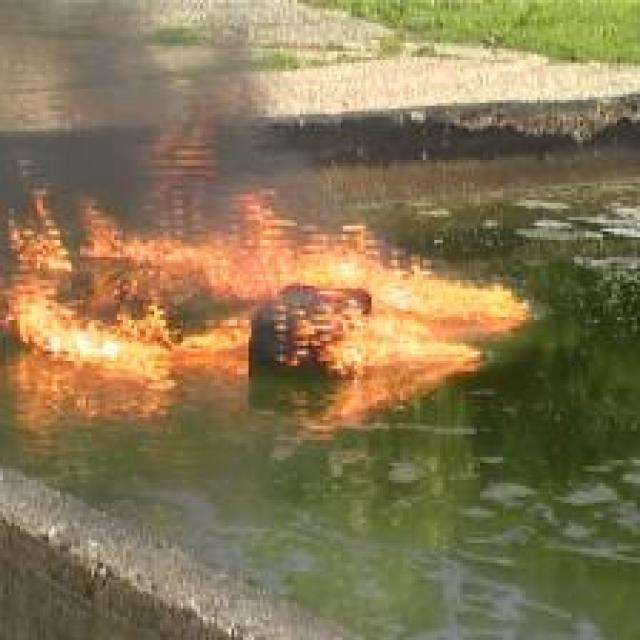Fire: (86, 192, 532, 328), (0, 281, 483, 376), (0, 182, 71, 274)
